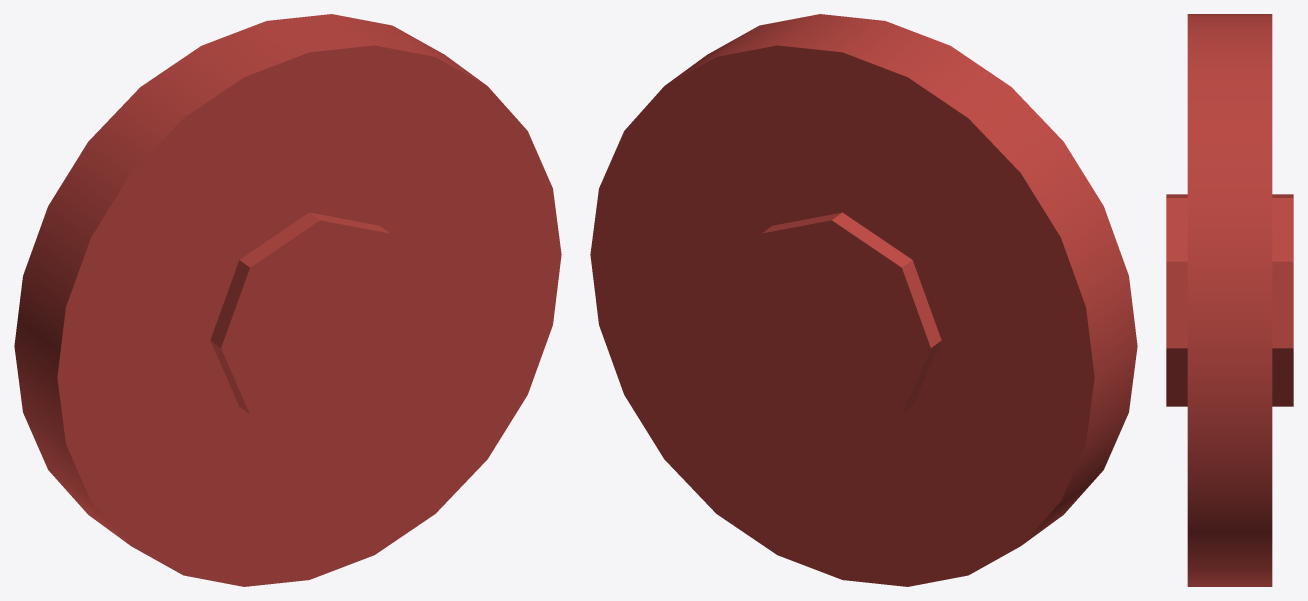
The model's file is front_16_lod1.glb.
The picture shows the model from 3 angles, left to right: view 1: azimuth 30°, elevation 25°; view 2: azimuth 150°, elevation 25°; view 3: azimuth 270°, elevation 25°; orthographic projection.
Visible parts, largest first — view 1: front_16_lod1; view 2: front_16_lod1; view 3: front_16_lod1.
Part boxes in pixels (x1=…): front_16_lod1: x1=14, y1=14, x2=561, y2=586; front_16_lod1: x1=590, y1=14, x2=1137, y2=586; front_16_lod1: x1=1166, y1=14, x2=1293, y2=586.
Size of the model in its own units: 0.0814 by 0.0814 by 0.018.
